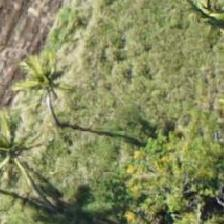coconut_tree: (0, 43, 86, 133), (0, 104, 64, 194), (168, 0, 223, 55)
